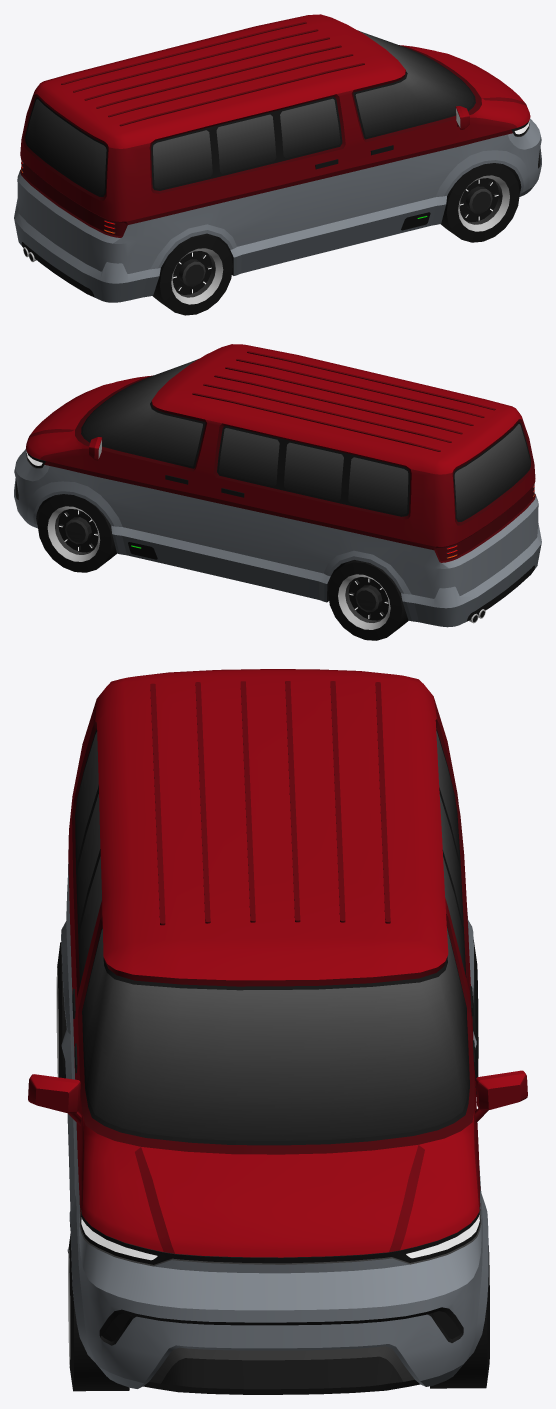
The model's file is Car_017.glb.
The picture shows the model from 3 angles, top to bottom: view 1: azimuth 30°, elevation 25°; view 2: azimuth 150°, elevation 25°; view 3: azimuth 270°, elevation 25°; orthographic projection. The views are drawn at different scales.
Visible parts, largest first — view 1: Car_017, wheel_2_Car_017_Wheel_2R, wheel_1_Car_017_Wheel_1R; view 2: Car_017, wheel_3_Car_017_Wheel_3L, wheel_0_Car_017_Wheel_1L; view 3: Car_017, wheel_1_Car_017_Wheel_1R, wheel_0_Car_017_Wheel_1L, wheel_2_Car_017_Wheel_2R.
Part boxes in pixels (x1,y1,x2,y2): Car_017: [14, 14, 541, 302]; wheel_2_Car_017_Wheel_2R: [152, 233, 232, 315]; wheel_1_Car_017_Wheel_1R: [440, 163, 519, 242]; Car_017: [14, 344, 541, 627]; wheel_3_Car_017_Wheel_3L: [328, 560, 408, 640]; wheel_0_Car_017_Wheel_1L: [37, 494, 116, 572]; Car_017: [28, 669, 527, 1394]; wheel_1_Car_017_Wheel_1R: [68, 1234, 129, 1391]; wheel_0_Car_017_Wheel_1L: [430, 1245, 489, 1388]; wheel_2_Car_017_Wheel_2R: [56, 942, 66, 1078].
Bounding box in the file's own units: 5.12 × 1.95 × 2.38.
Materials: 2 (2 with a texture image).
